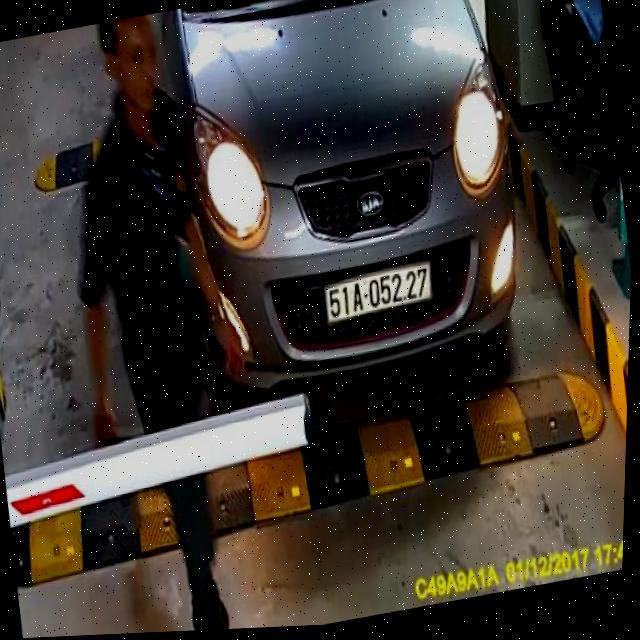car: (139, 0, 545, 406)
plate: (317, 257, 439, 326)
